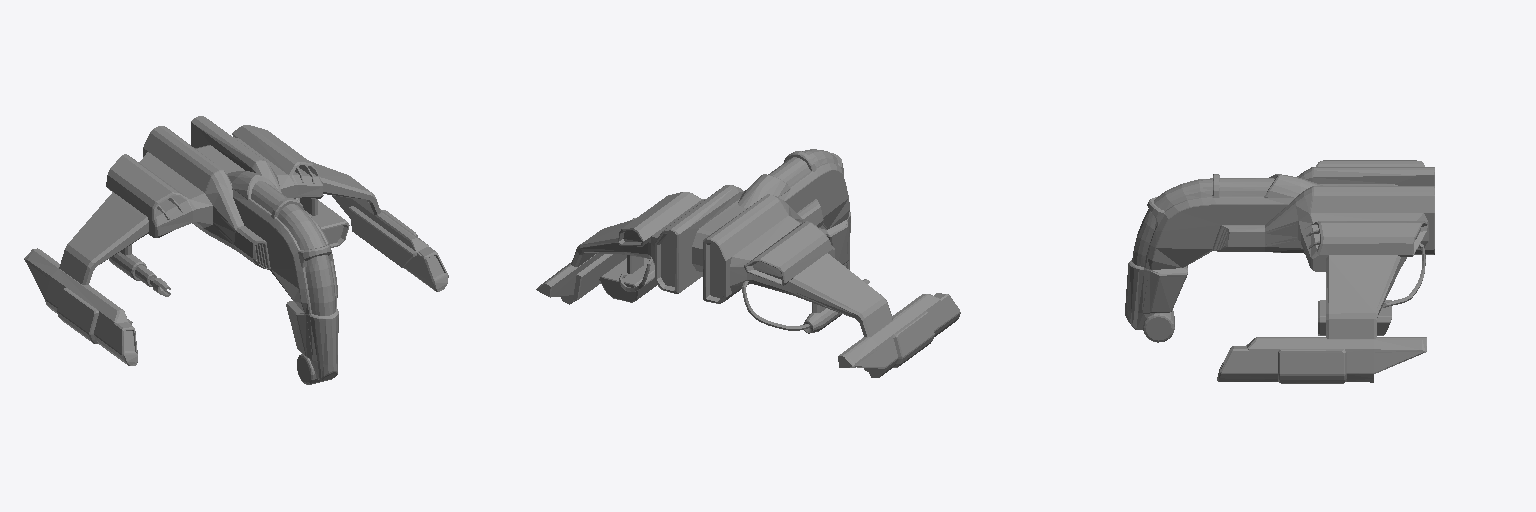
The model's file is betty.obj.
3 renders of one model, left to right at view 1: azimuth 30°, elevation 25°; view 2: azimuth 150°, elevation 25°; view 3: azimuth 270°, elevation 25°, orthographic.
Visible parts, largest first — view 1: Betty; view 2: Betty; view 3: Betty.
Boxes of the visible parts, x1=… form: Betty: x1=24, y1=116, x2=448, y2=384; Betty: x1=536, y1=149, x2=960, y2=377; Betty: x1=1125, y1=160, x2=1434, y2=383.
Size of the model in its own units: 91.16 by 42.2 by 73.26.